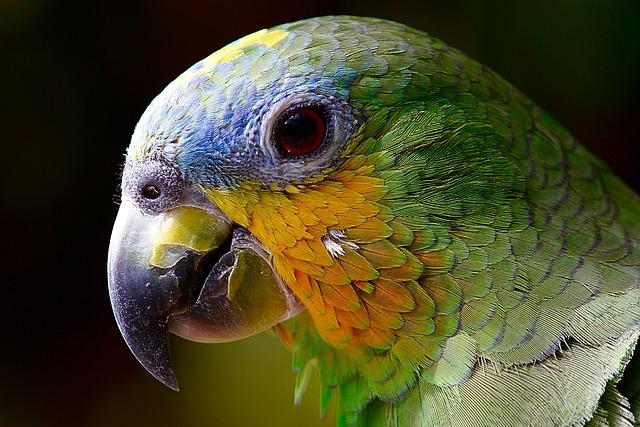bird: (107, 16, 639, 426)
